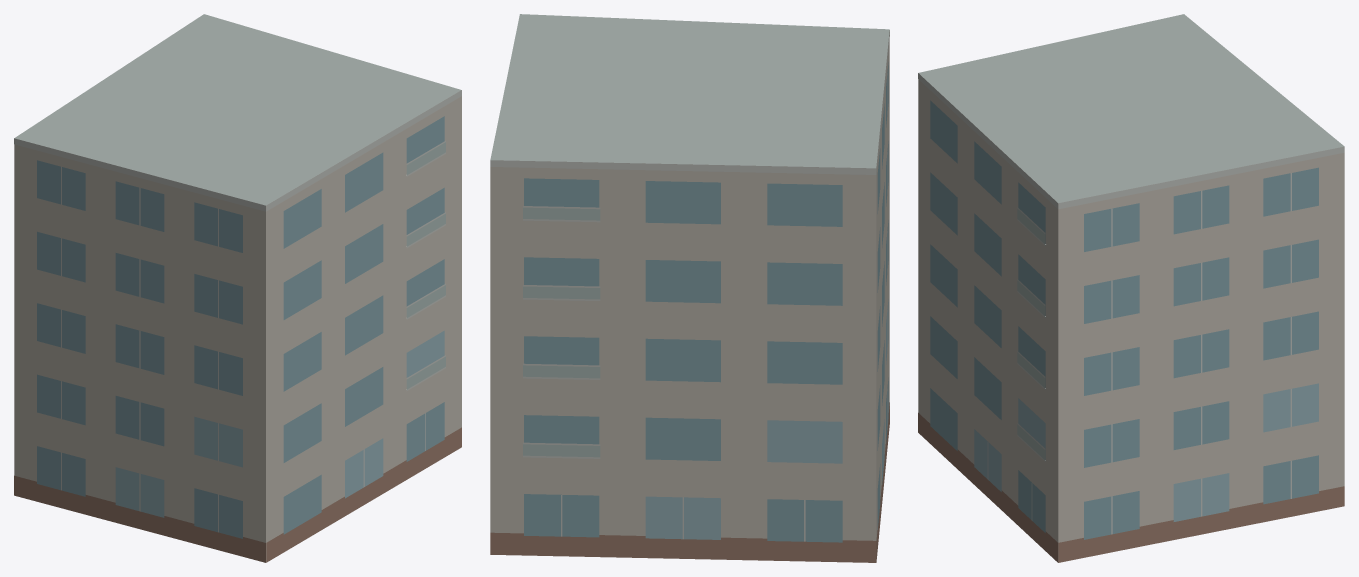
Rendered from survey-upis-32707219.glb.
The picture shows the model from 3 angles, left to right: view 1: azimuth 30°, elevation 25°; view 2: azimuth 150°, elevation 25°; view 3: azimuth 270°, elevation 25°; orthographic projection. The views are drawn at different scales.
Parts seen in each view (by area): view 1: survey-upis-32707219.tmp; view 2: survey-upis-32707219.tmp; view 3: survey-upis-32707219.tmp.
Boxes of the visible parts, bbox=[...] form: survey-upis-32707219.tmp: bbox=[14, 14, 461, 562]; survey-upis-32707219.tmp: bbox=[490, 14, 889, 562]; survey-upis-32707219.tmp: bbox=[918, 14, 1344, 562].
Size of the model in its own units: 16.2 by 14.35 by 15.43.
